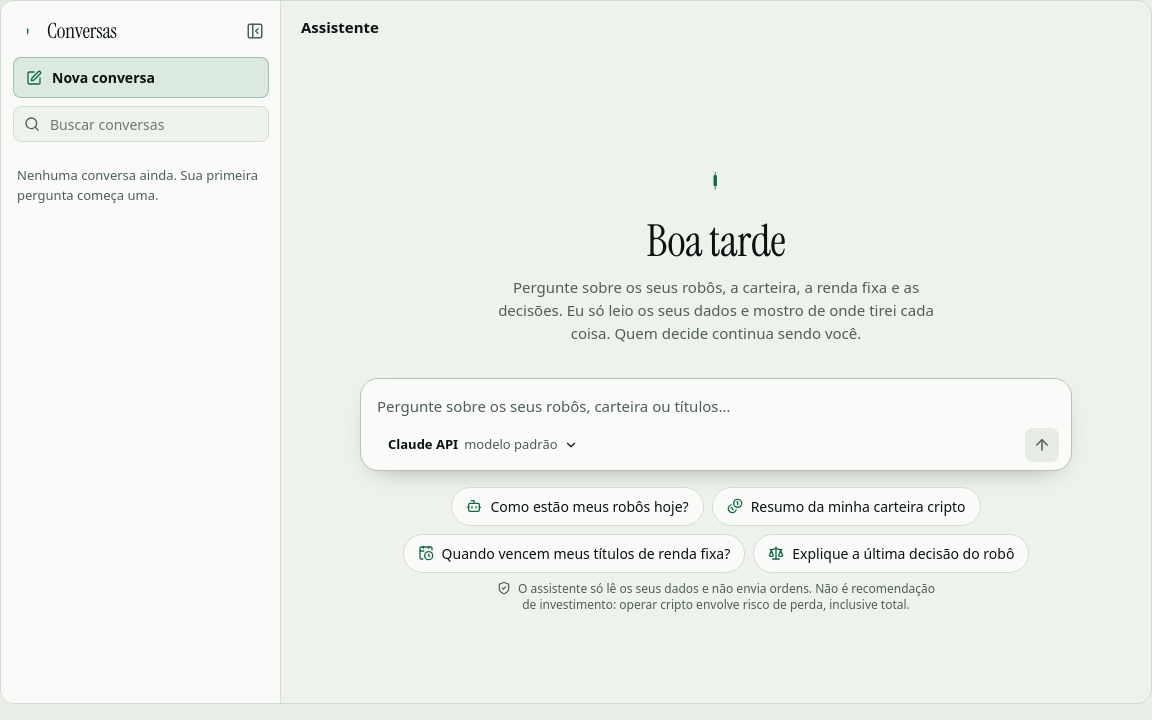
Test: Assistente: resposta em andamento › Esc também para a resposta
Type "oi" into the text box named "Sua pergunta" at (718, 406), box [377,391,1059,422]
Then press Enter
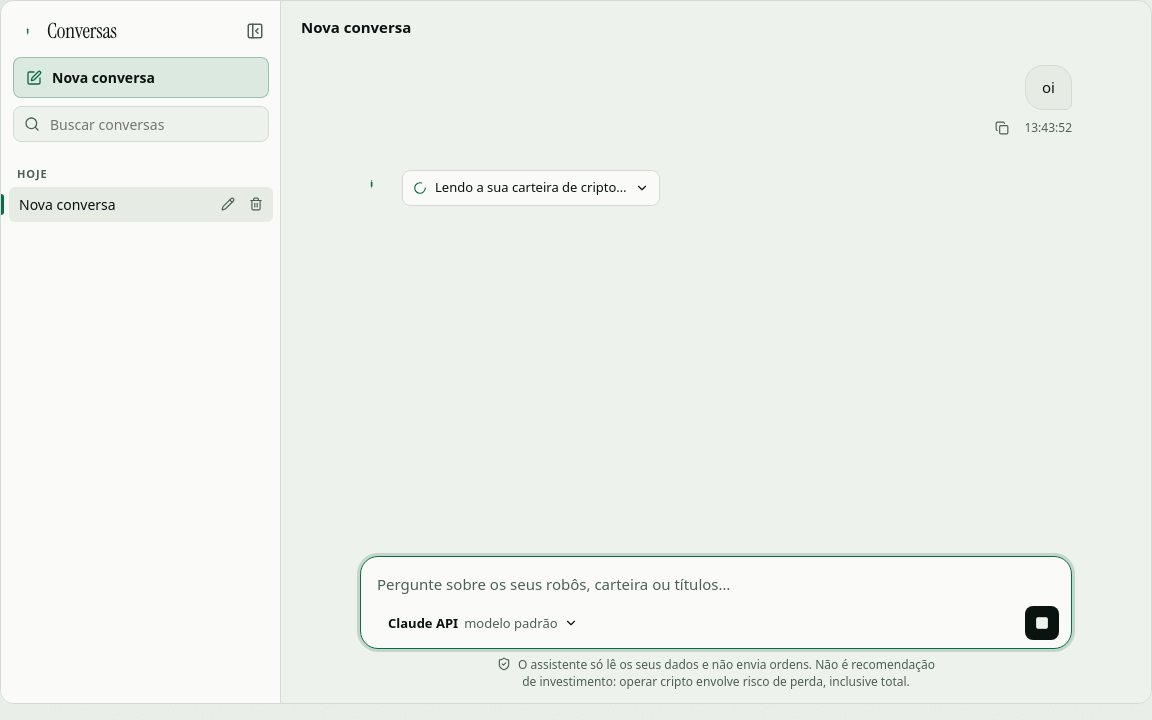
Now the button named "Parar a resposta" is shown, box [1025,606,1059,640]
Press Escape
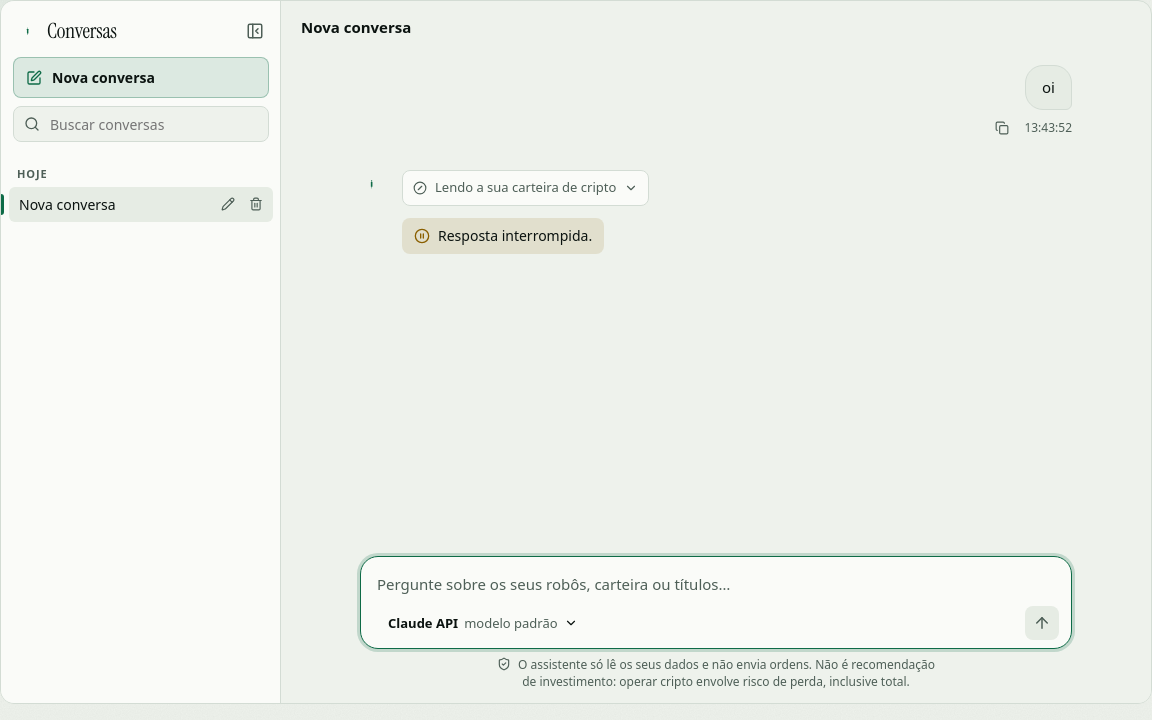
Now the text "Resposta interrompida." is shown, box [438,226,592,246]
